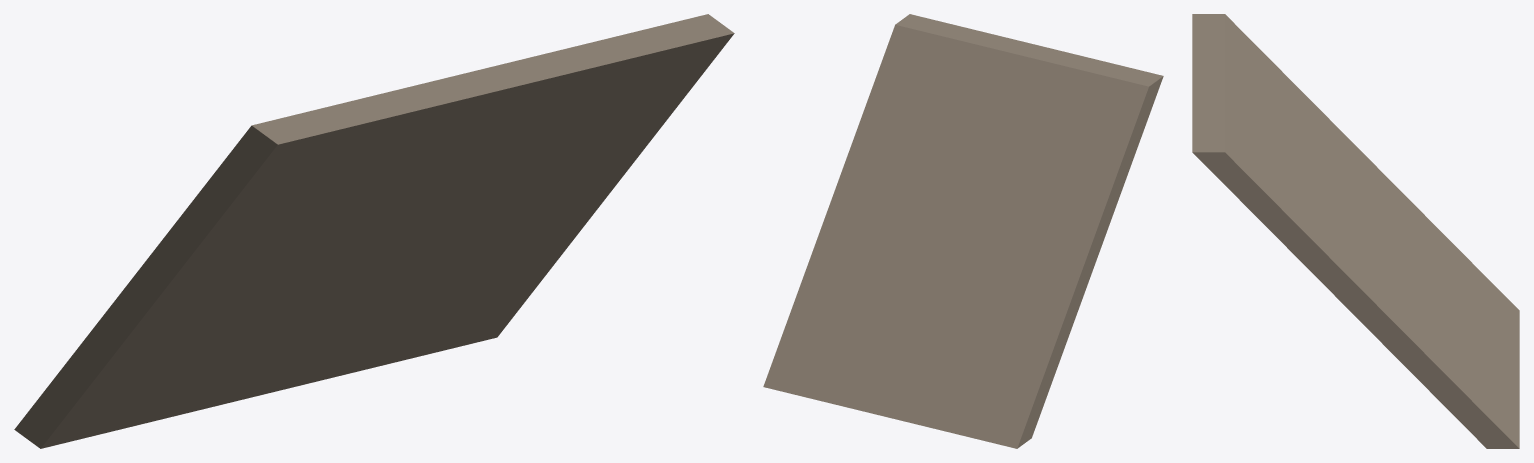
Rendered from solar-panel.glb.
3 renders of one model, left to right at view 1: azimuth 30°, elevation 25°; view 2: azimuth 150°, elevation 25°; view 3: azimuth 270°, elevation 25°, orthographic. The views are drawn at different scales.
Parts seen in each view (by area): view 1: solar-panel; view 2: solar-panel; view 3: solar-panel.
Part boxes in pixels (box(x1,y1,x2,y2)): solar-panel: box(14, 14, 734, 448); solar-panel: box(763, 14, 1163, 448); solar-panel: box(1192, 14, 1519, 448).
Bounding box in the file's own units: 1 × 1 × 1.
